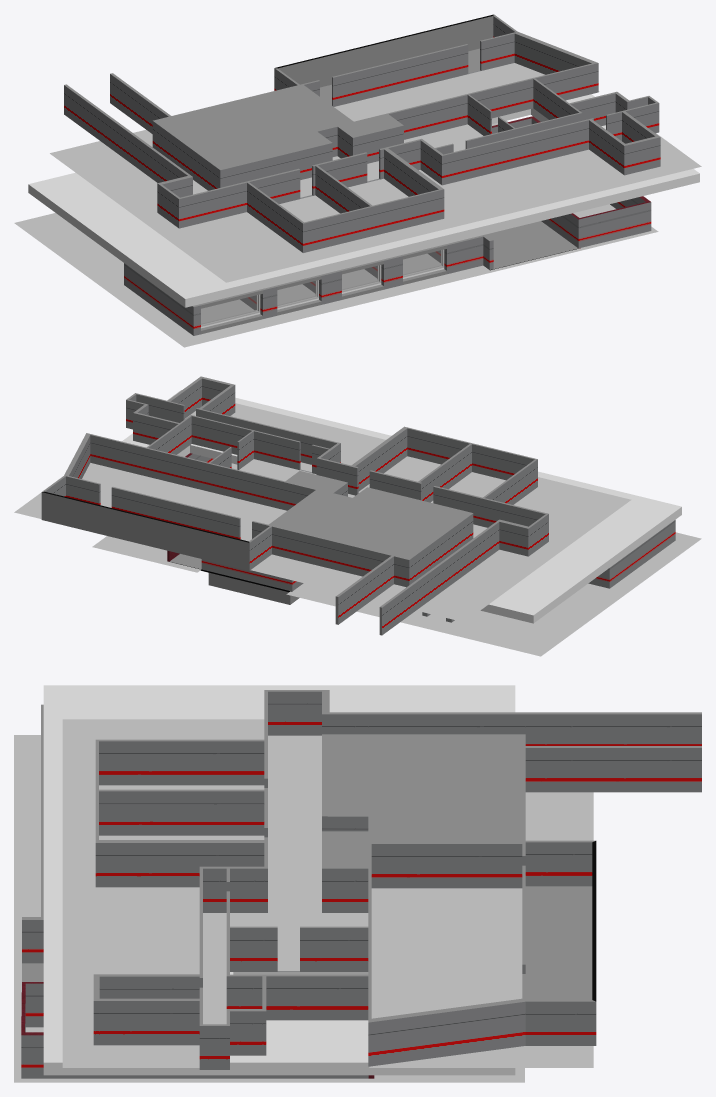
Rendered from scène.FBX.
The picture shows the model from 3 angles, top to bottom: view 1: azimuth 30°, elevation 25°; view 2: azimuth 150°, elevation 25°; view 3: azimuth 270°, elevation 25°; orthographic projection. The views are drawn at different scales.
Visible parts, largest first — view 1: 2eme, sol2, plafond, 1er, sol1, Box005, Box006, Box008, Box007; view 2: 2eme, sol2, plafond, sol1, 1er; view 3: 2eme, sol2, plafond, sol1, 1er.
Boxes of the visible parts, left/top/right/bottom form: 2eme: left=64, top=14, right=660, bottom=252; sol2: left=50, top=63, right=701, bottom=282; plafond: left=28, top=94, right=699, bottom=307; 1er: left=124, top=116, right=651, bottom=335; sol1: left=14, top=120, right=658, bottom=347; Box005: left=201, top=294, right=260, bottom=326; Box006: left=277, top=280, right=318, bottom=308; Box008: left=403, top=249, right=444, bottom=277; Box007: left=342, top=265, right=381, bottom=292; 2eme: left=41, top=376, right=548, bottom=635; sol2: left=14, top=390, right=631, bottom=622; plafond: left=122, top=397, right=681, bottom=623; sol1: left=92, top=463, right=701, bottom=656; 1er: left=167, top=453, right=675, bottom=622; 2eme: left=93, top=690, right=701, bottom=1069; sol2: left=62, top=719, right=593, bottom=1067; plafond: left=43, top=685, right=515, bottom=1075; sol1: left=14, top=735, right=524, bottom=1082; 1er: left=21, top=704, right=374, bottom=1078.
Size of the model in its own units: 51.95 by 7.89 by 38.4.
